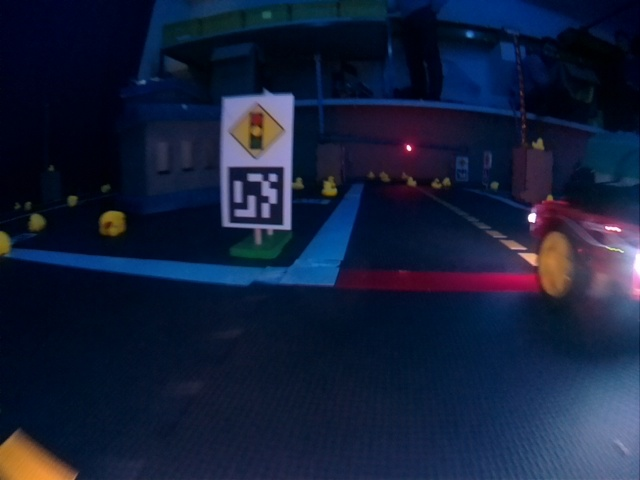Duckie: (100, 211, 122, 235), (29, 214, 43, 231), (323, 183, 336, 194), (67, 196, 76, 206), (408, 177, 416, 187), (533, 139, 541, 148), (432, 178, 441, 186), (382, 174, 390, 183), (491, 181, 499, 189), (445, 178, 452, 187)
Duckiebot: (534, 182, 636, 309)
QR code: (226, 166, 286, 226)
Signal sign: (227, 102, 290, 158)
Traffic light: (404, 143, 412, 152)
